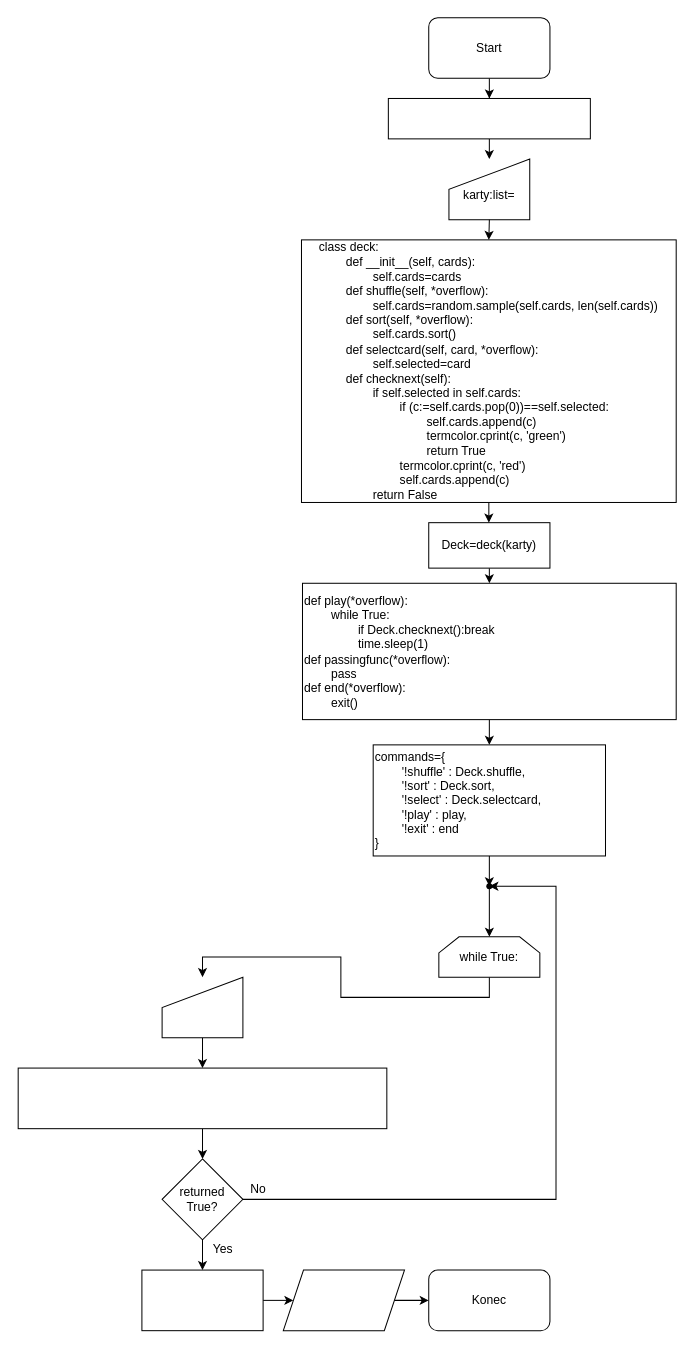
Image size: 694x1348. Some labels were removed from this diagram. Here are the shapes that lost their labels. From the top down, the centre of each, then its label:
At point (488, 118): "import random, time, termcolor".
At point (202, 1007): "s:string=".
At point (202, 1098): "commands.get(s.split(' ')[0], passingfunc)(s.split(' ')[1:] or [''])".
At point (202, 1300): "Deck.sort()".
At point (343, 1300): "*Deck.cards".
